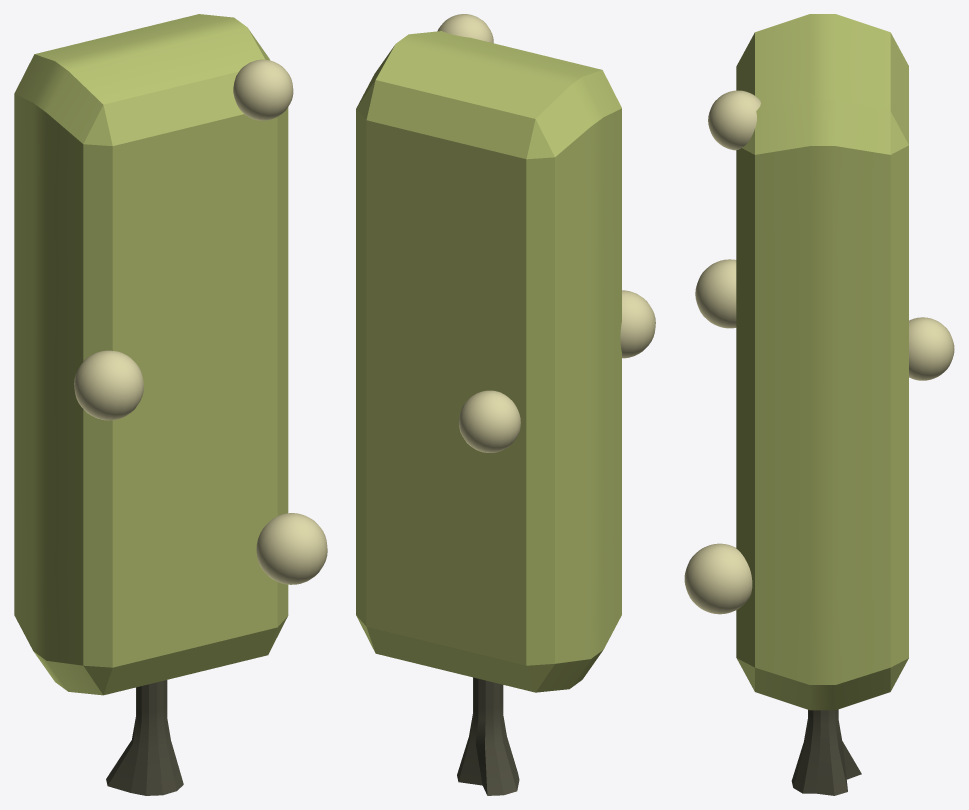
The model's file is HighTree1Apple.fbx.
3 views of the same model, side by side, from view 1: azimuth 30°, elevation 25°; view 2: azimuth 150°, elevation 25°; view 3: azimuth 270°, elevation 25° (orthographic). The views are drawn at different scales.
Parts seen in each view (by area): view 1: pasted__pasted__Crown_Big, pasted__pasted__Bark, pSphere7, pSphere17, ForEdit9:pSphere7; view 2: pasted__pasted__Crown_Big, pasted__pasted__Bark, pSphere16, pSphere17, ForEdit9:pSphere7; view 3: pasted__pasted__Crown_Big, pasted__pasted__Bark, pSphere7, pSphere16, ForEdit9:pSphere7, pSphere17.
Boxes of the visible parts, <box> form: pasted__pasted__Crown_Big: <box>14,14,288,695</box>; pasted__pasted__Bark: <box>106,680,183,795</box>; pSphere7: <box>256,513,327,584</box>; pSphere17: <box>74,350,143,420</box>; ForEdit9:pSphere7: <box>233,59,293,120</box>; pasted__pasted__Crown_Big: <box>356,31,621,692</box>; pasted__pasted__Bark: <box>457,677,519,795</box>; pSphere16: <box>459,390,520,452</box>; pSphere17: <box>620,290,655,358</box>; ForEdit9:pSphere7: <box>437,14,493,43</box>; pasted__pasted__Crown_Big: <box>736,14,908,710</box>; pasted__pasted__Bark: <box>791,709,861,795</box>; pSphere7: <box>684,543,752,614</box>; pSphere16: <box>909,317,954,380</box>; ForEdit9:pSphere7: <box>708,90,760,150</box>; pSphere17: <box>695,259,736,328</box>.
Bounding box in the file's own units: 2.35 × 6.94 × 2.34.
